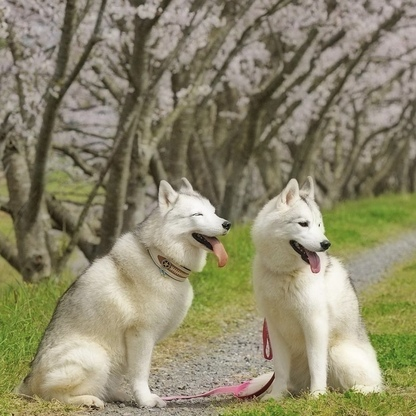husky: (15, 172, 235, 414), (247, 173, 390, 404)
